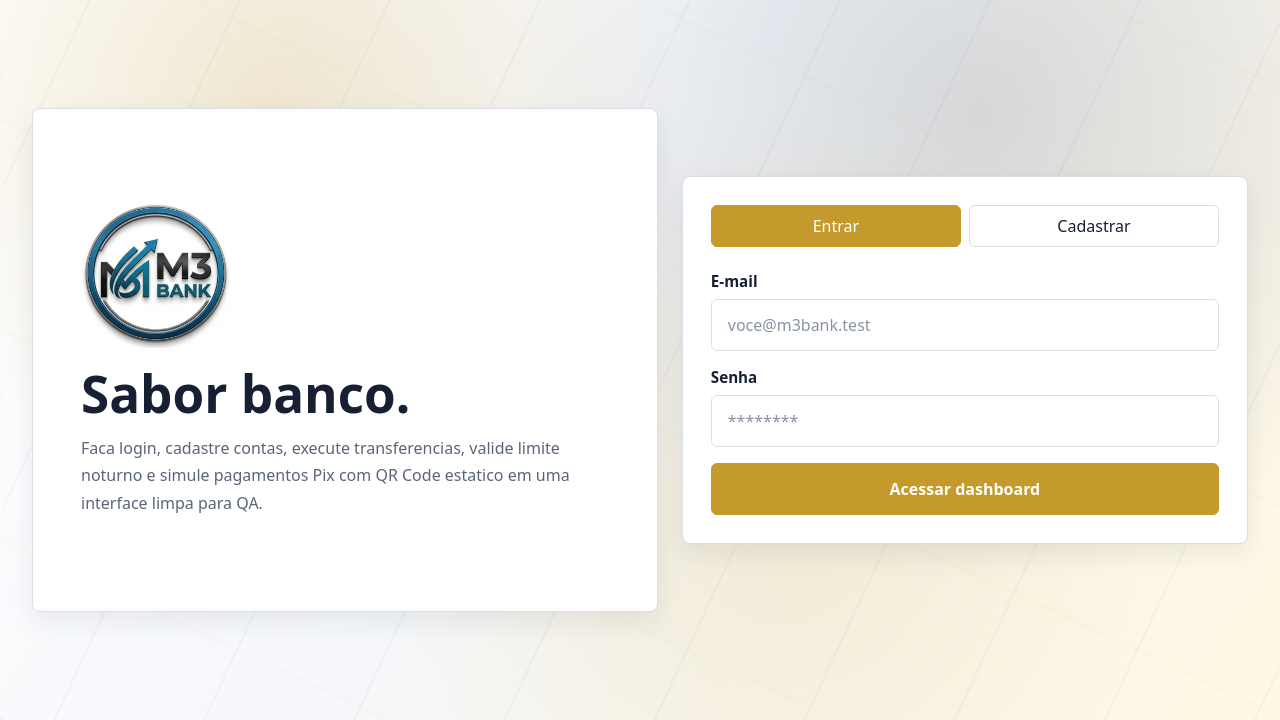
Test: RN01 - Cadastro de Contas › [TC-RN01-004] Cadastro - exige campos obrigatorios
Click the button "Cadastrar": point(1094, 226) x1=969 y1=205 x2=1219 y2=247
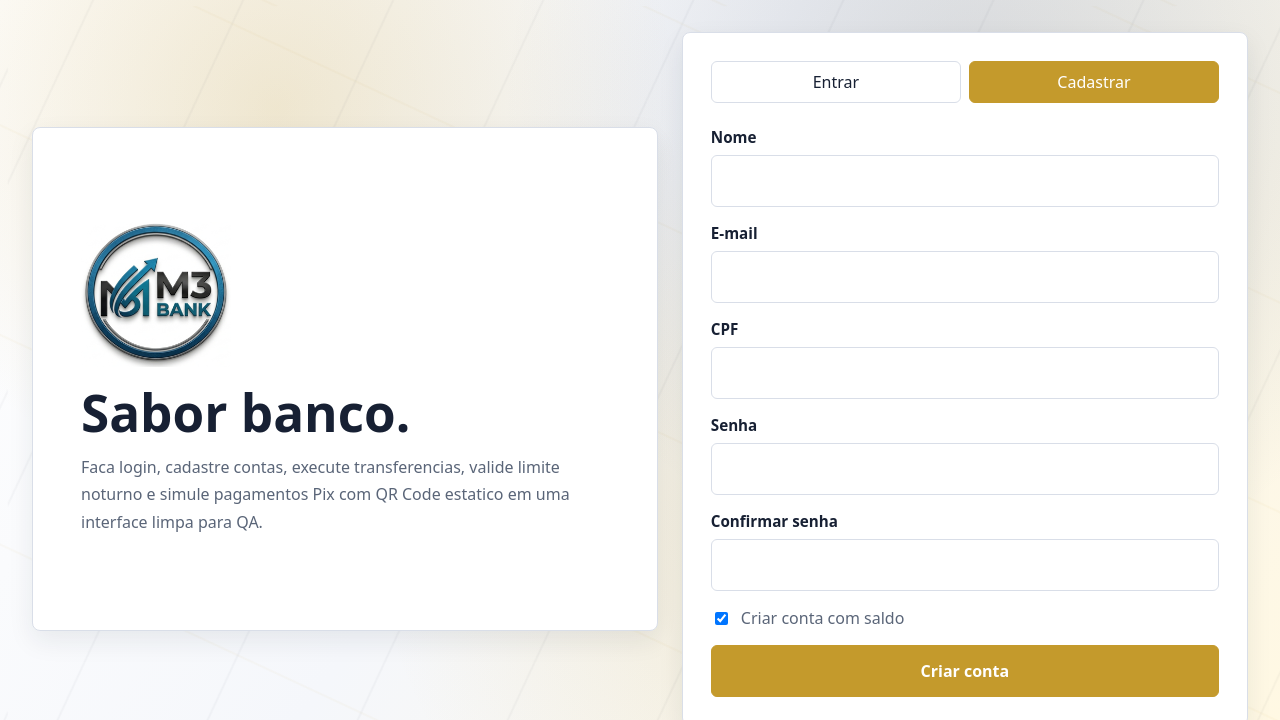
Click the button "Criar conta": point(965, 671) x1=711 y1=645 x2=1219 y2=697
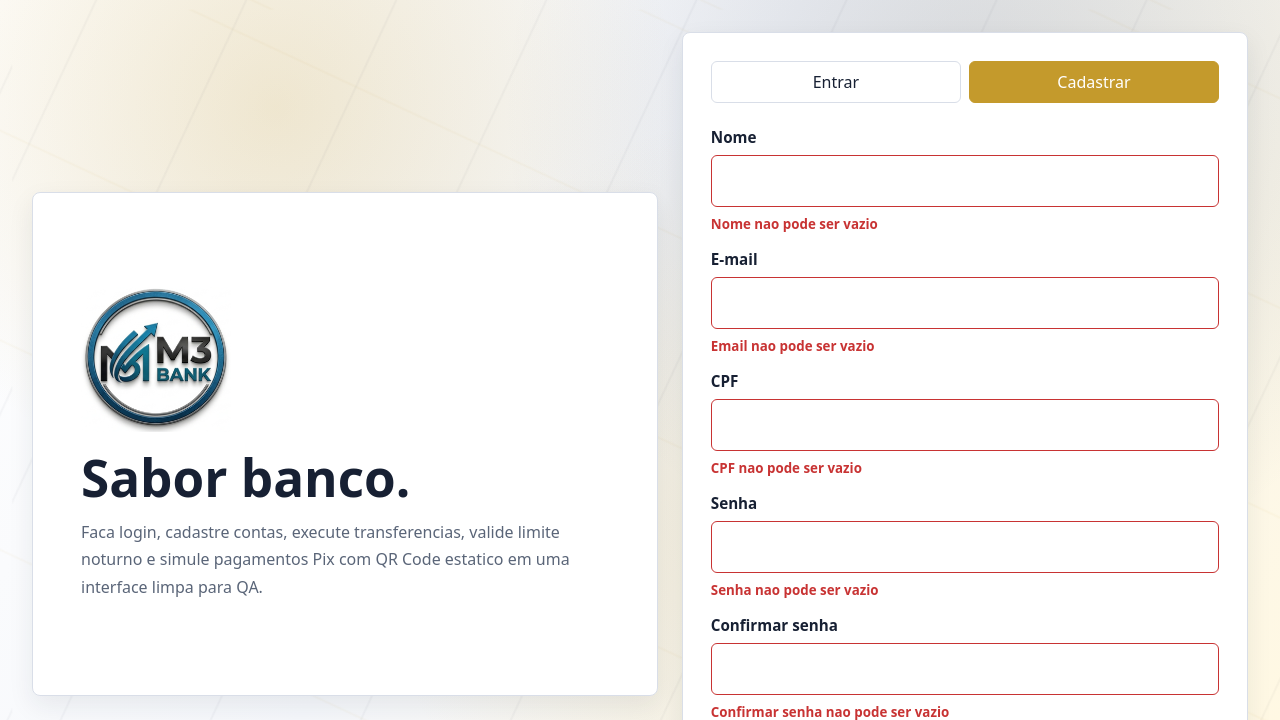
Expected: the text "Nome nao pode ser vazio" is shown, x1=711 y1=127 x2=1219 y2=233
Expected: the text "Email nao pode ser vazio" is shown, x1=711 y1=249 x2=1219 y2=355
Expected: the text "CPF nao pode ser vazio" is shown, x1=711 y1=371 x2=1219 y2=477
